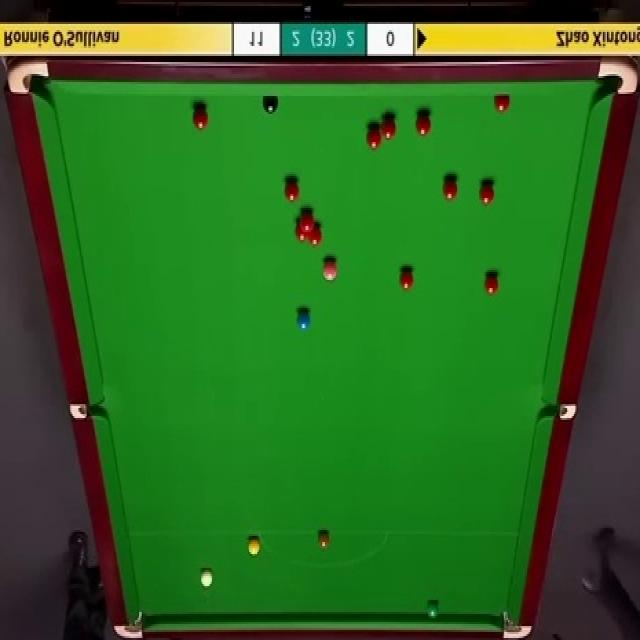black-ball: (261, 95, 279, 118)
blue-ball: (295, 307, 311, 332)
brown-ball: (316, 529, 330, 552)
green-ball: (425, 600, 440, 619)
pink-ball: (323, 258, 338, 286)
red-ball: (380, 112, 398, 143), (398, 265, 416, 293), (414, 111, 431, 137), (478, 181, 495, 207), (366, 125, 382, 151), (192, 104, 208, 130), (286, 179, 302, 204), (442, 177, 458, 201), (484, 272, 499, 297), (308, 222, 322, 246), (494, 94, 510, 114), (301, 210, 314, 230), (295, 222, 308, 242)
white-ball: (200, 566, 216, 589)
yellow-ball: (246, 537, 260, 557)
